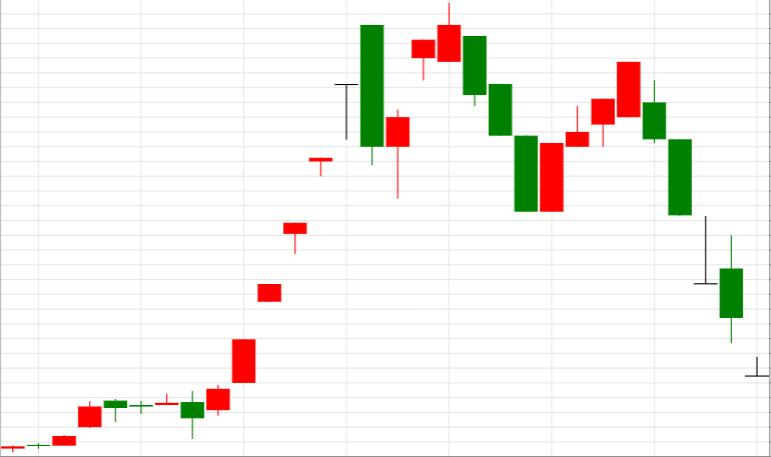three_black_crows_fall: (386, 2, 537, 211)
